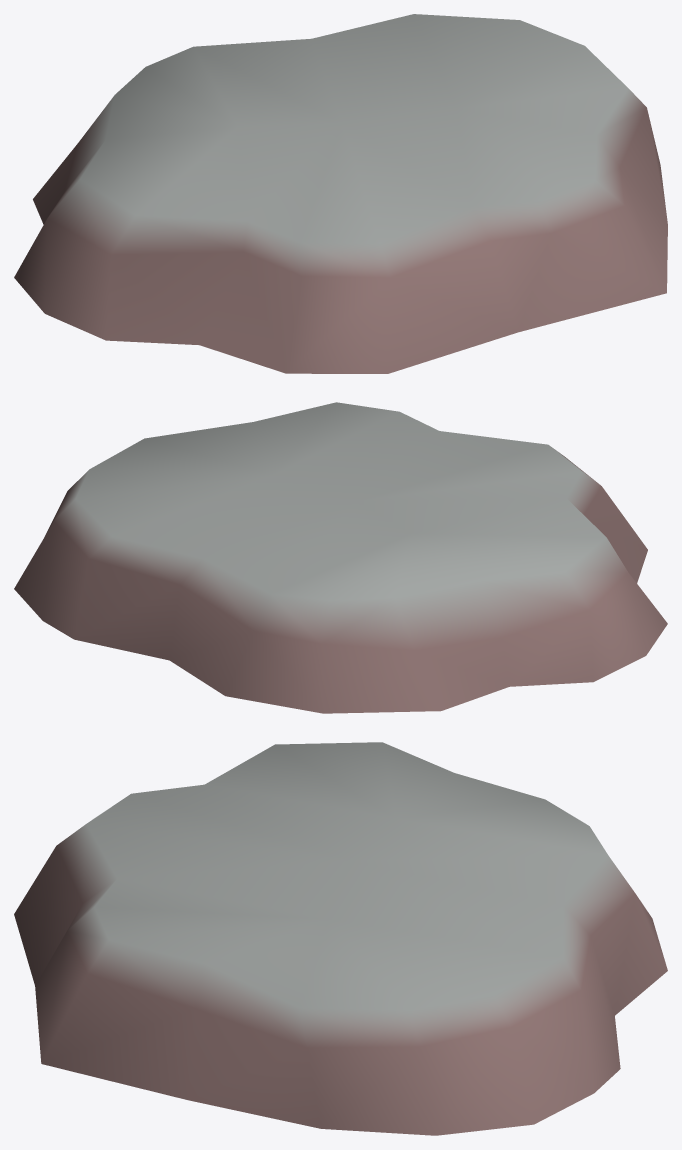
The picture shows the model from 3 angles, top to bottom: view 1: azimuth 30°, elevation 25°; view 2: azimuth 150°, elevation 25°; view 3: azimuth 270°, elevation 25°; orthographic projection. The views are drawn at different scales.
Parts seen in each view (by area): view 1: G:\FFXIV-MapTools\exports\u5f1\bg\ex4\04_uvs_u5\fld\u5f1\bgp (×2); view 2: G:\FFXIV-MapTools\exports\u5f1\bg\ex4\04_uvs_u5\fld\u5f1\bgp (×2); view 3: G:\FFXIV-MapTools\exports\u5f1\bg\ex4\04_uvs_u5\fld\u5f1\bgp (×2).
Part boxes in pixels (x1=…): G:\FFXIV-MapTools\exports\u5f1\bg\ex4\04_uvs_u5\fld\u5f1\bgp (×2): x1=14, y1=14, x2=667, y2=373; G:\FFXIV-MapTools\exports\u5f1\bg\ex4\04_uvs_u5\fld\u5f1\bgp (×2): x1=14, y1=402, x2=667, y2=713; G:\FFXIV-MapTools\exports\u5f1\bg\ex4\04_uvs_u5\fld\u5f1\bgp (×2): x1=14, y1=742, x2=667, y2=1135.
Bounding box in the file's own units: 10.36 × 1.67 × 8.89.
